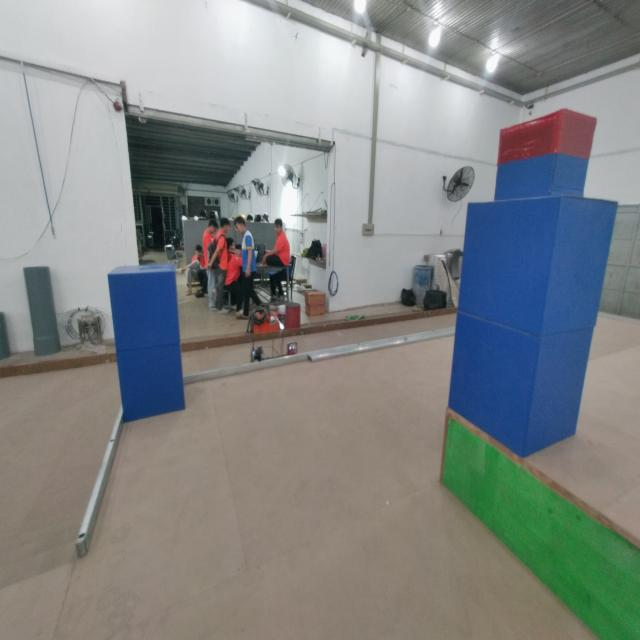earth_block: (454, 196, 621, 332), (440, 320, 601, 456), (103, 262, 181, 350), (113, 349, 186, 427)
sky_block: (488, 106, 597, 198)
